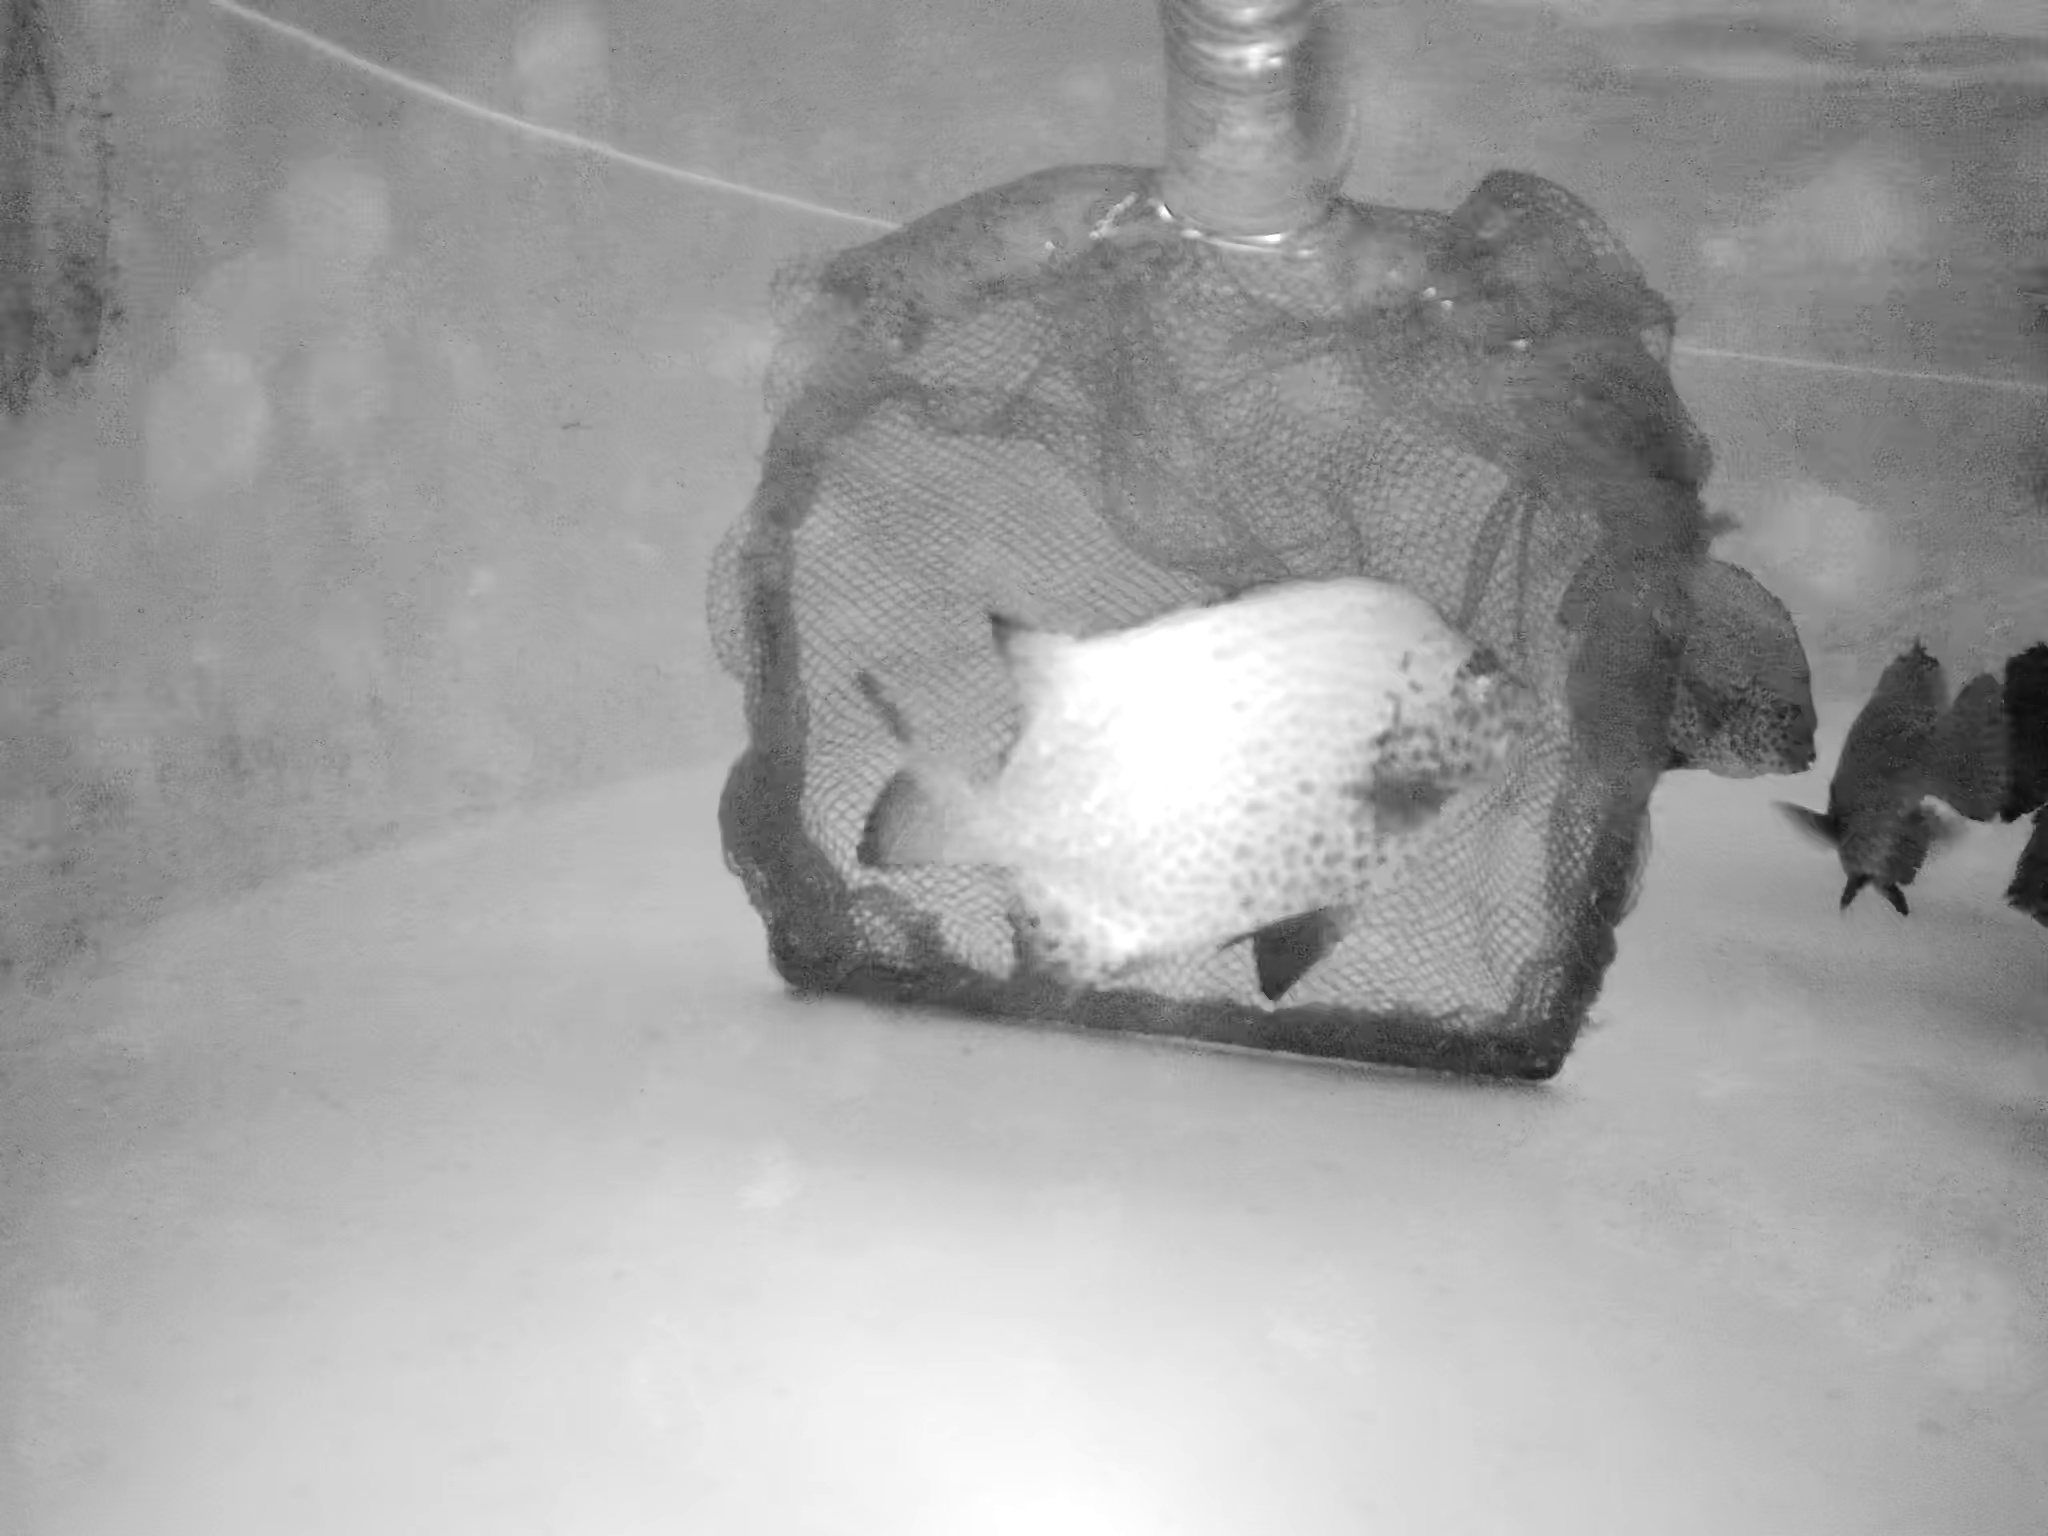fish: (855, 608, 1559, 965), (1635, 536, 1809, 787), (1798, 603, 1938, 907), (1948, 682, 2021, 849), (1992, 636, 2048, 810), (2008, 816, 2048, 958)
